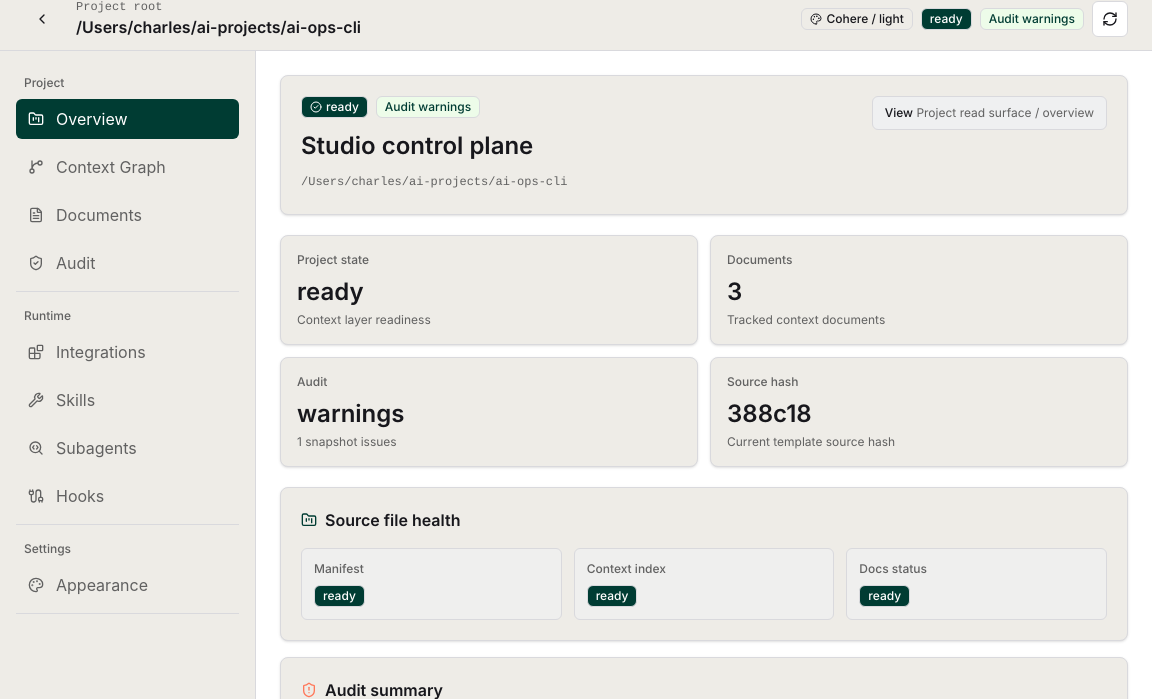
Scenario: App shell › renders context graph grouping and opens graph rows in Documents
Click the button "Context Graph".
click(128, 167)  # box [16,147,239,187]
(page scrolled)
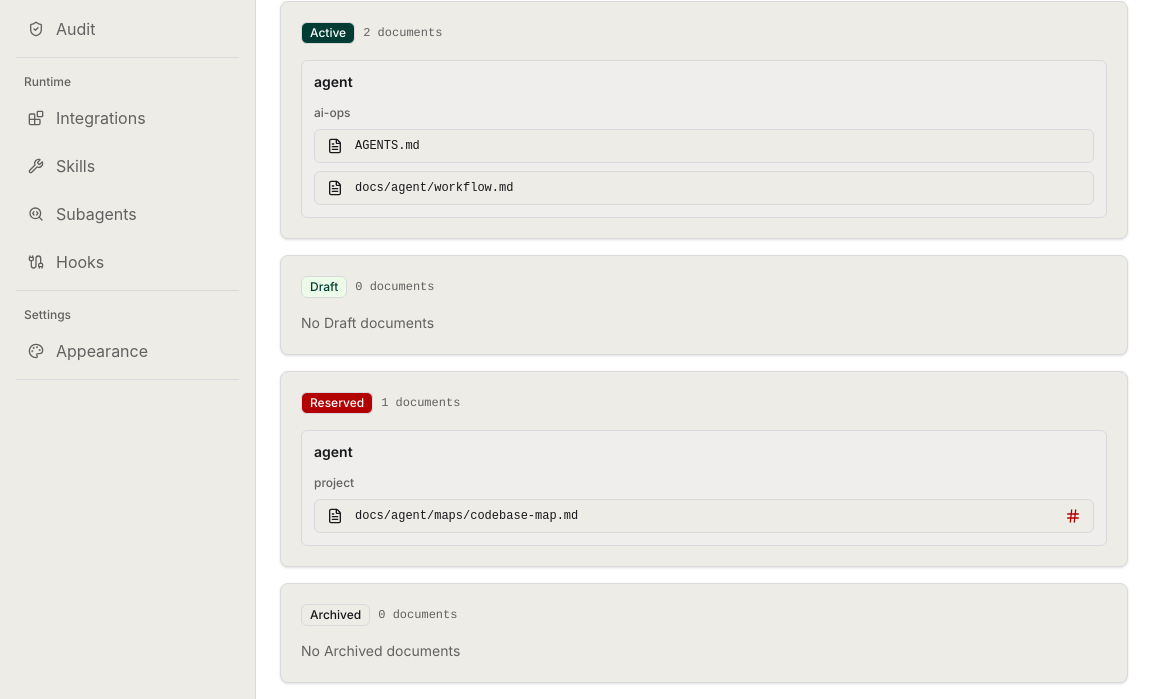
Expected: the text "Active" is shown, [301,22,355,44]
Expected: the heading "agent" below "Active" is shown, [314,74,353,91]
Click the button "docs/agent/maps/codebase-map.md".
click(467, 516)  # box [314,499,1094,533]
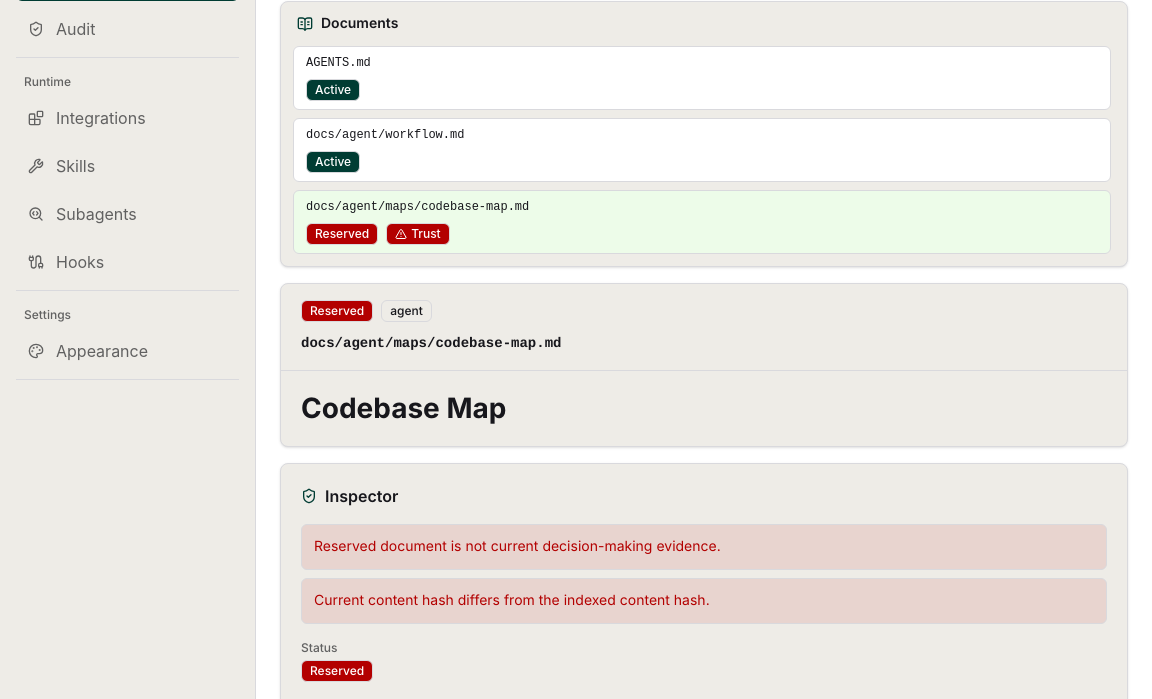
Expected: the heading "Inspector" is shown, [325,484,398,508]
Expected: the element with test id "inspector-warnings" shows "Reserved document is not current decision-making evidence.", [314,538,721,555]
